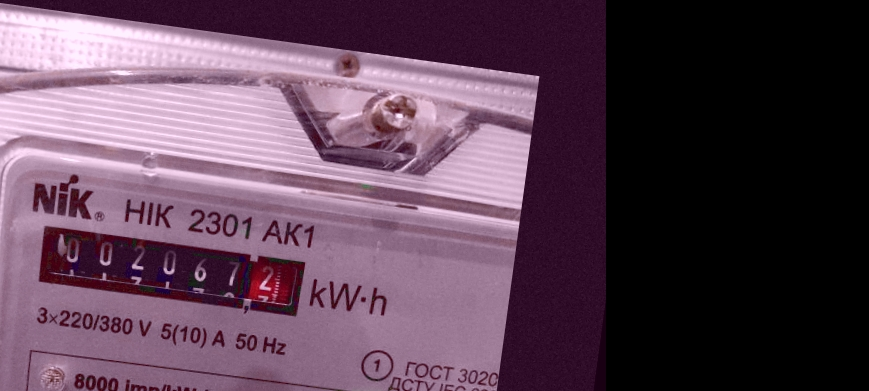0: (157, 245, 179, 275), (61, 234, 82, 265), (95, 237, 115, 268)
2: (127, 241, 148, 272), (255, 262, 276, 293)
6: (189, 253, 211, 284)
7: (222, 257, 242, 289)
screen: (20, 211, 321, 331)
